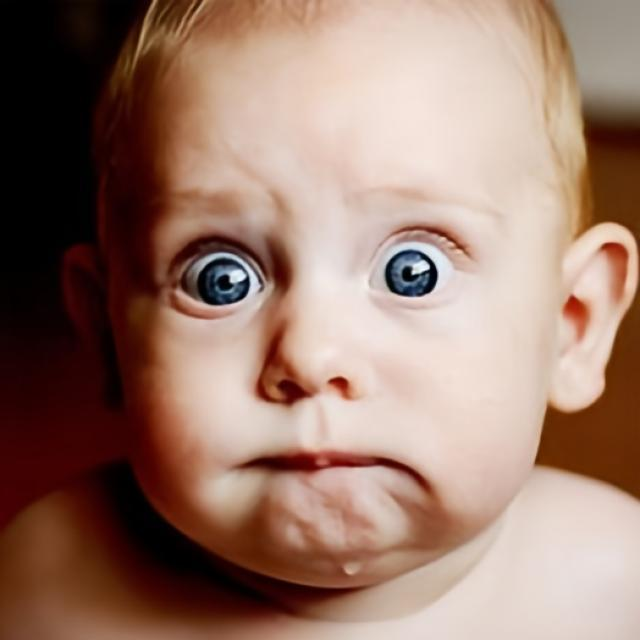fear: (91, 0, 588, 588)
